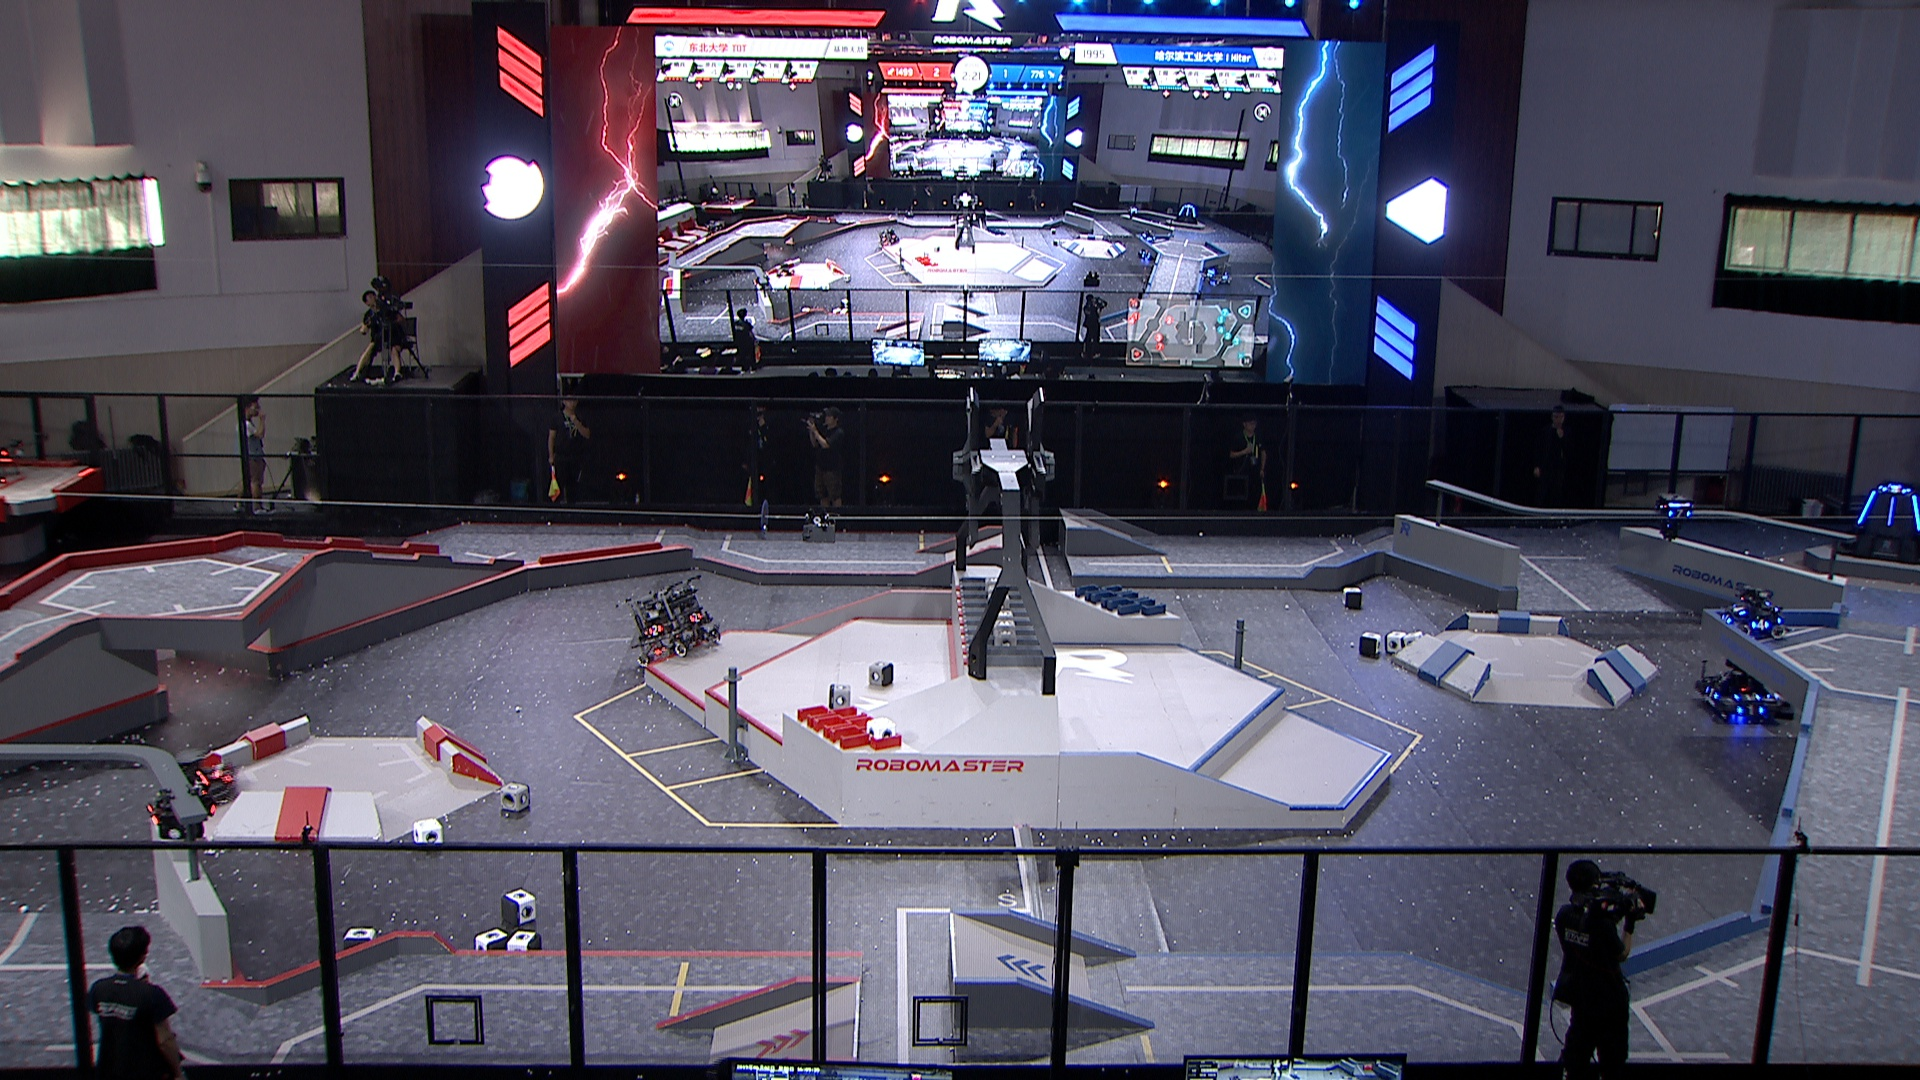armor: (1854, 488, 1878, 526), (141, 802, 161, 825), (1735, 702, 1764, 717), (1884, 495, 1898, 529), (1665, 508, 1693, 524), (1880, 483, 1909, 496), (1731, 690, 1759, 703), (1911, 495, 1920, 533), (1751, 618, 1774, 632), (1704, 684, 1721, 700), (1731, 604, 1749, 618), (645, 624, 662, 637), (688, 611, 704, 622), (1721, 613, 1733, 622)
base: (1832, 480, 1920, 564)
car: (612, 574, 723, 666), (1692, 654, 1775, 727), (144, 754, 233, 815), (1716, 584, 1788, 642)
ignore: (1203, 262, 1232, 286), (1174, 202, 1203, 225), (877, 228, 899, 249), (1135, 245, 1156, 264), (775, 261, 796, 277), (705, 216, 723, 235), (1139, 229, 1156, 244)
watcher: (141, 767, 219, 844), (1654, 491, 1693, 542)
